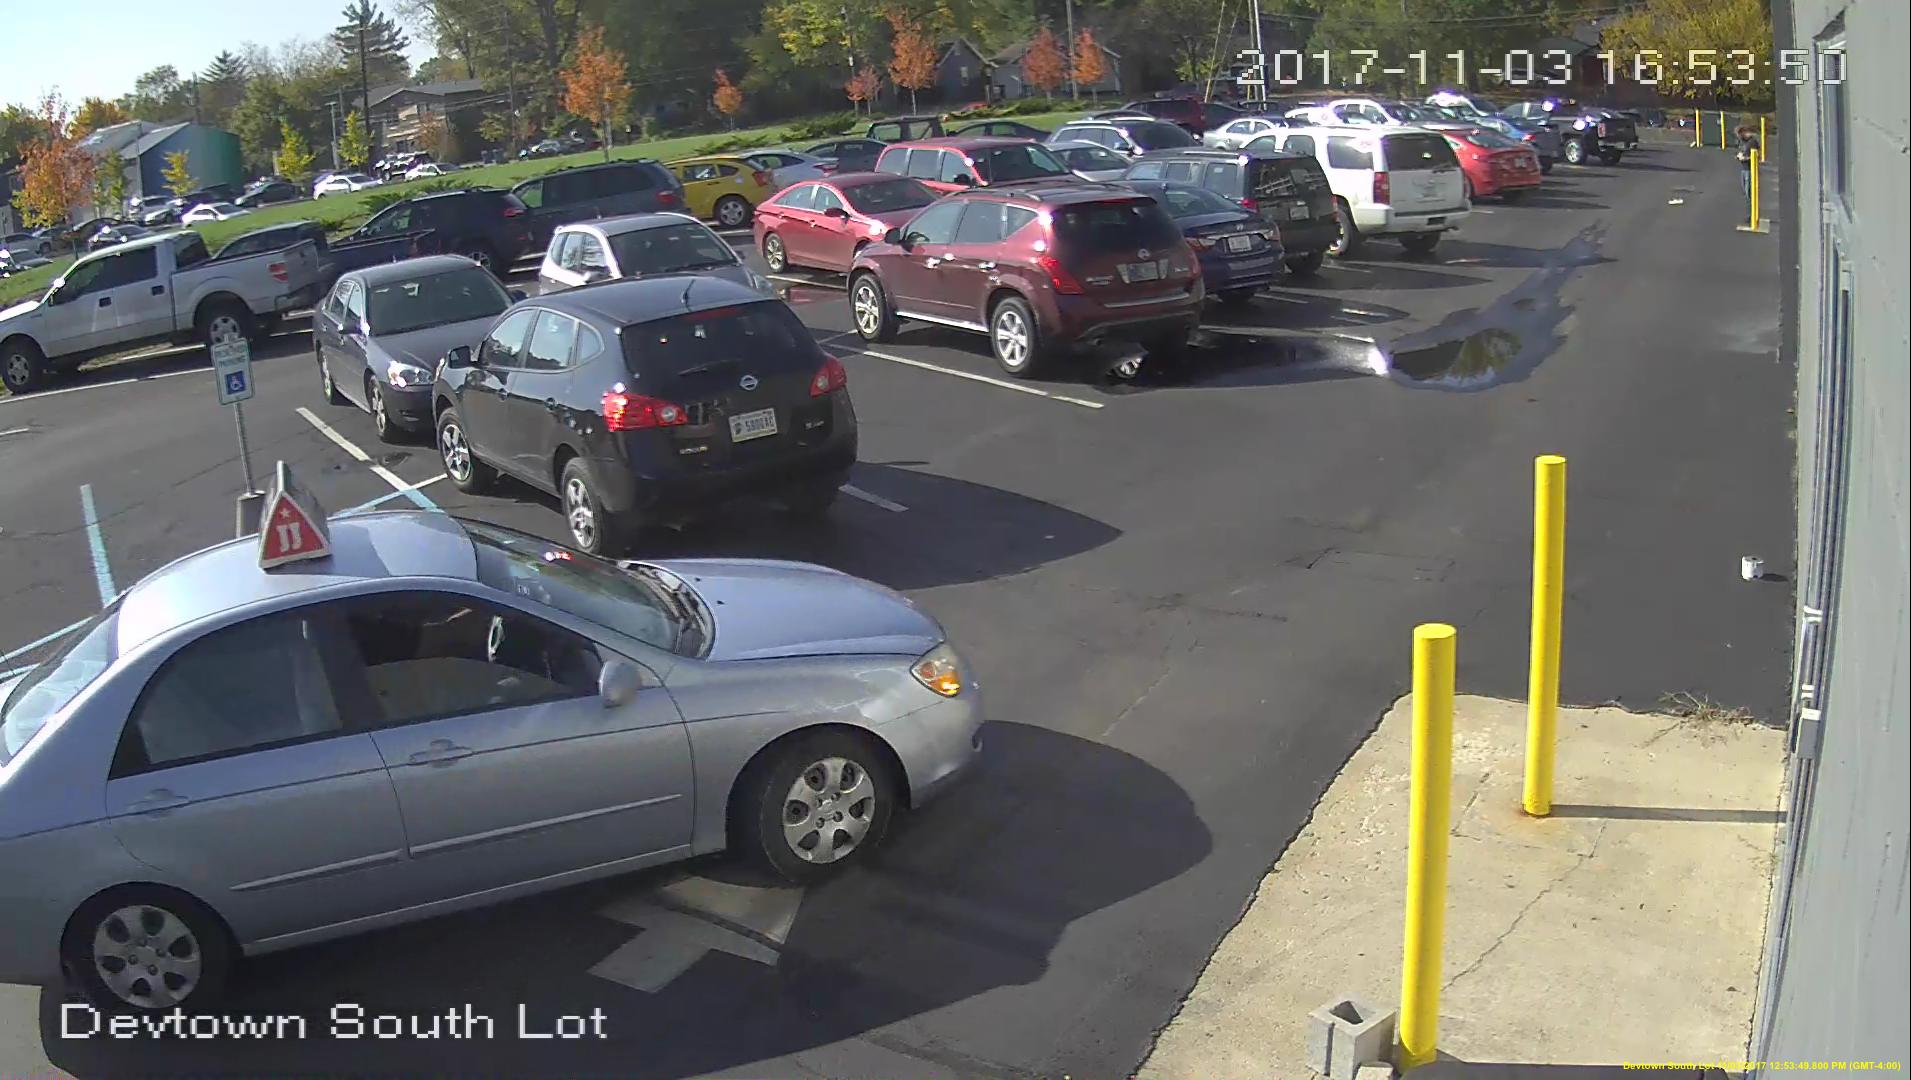jimmy_johns: (249, 459, 339, 573)
